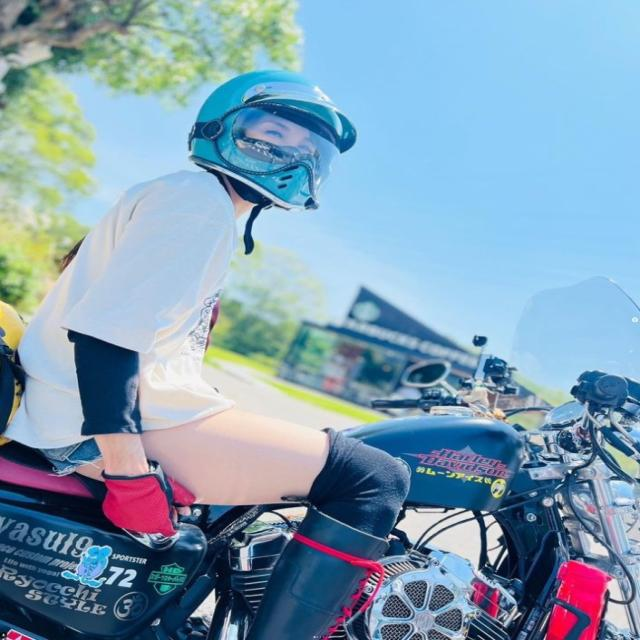helmet: (181, 66, 360, 218)
